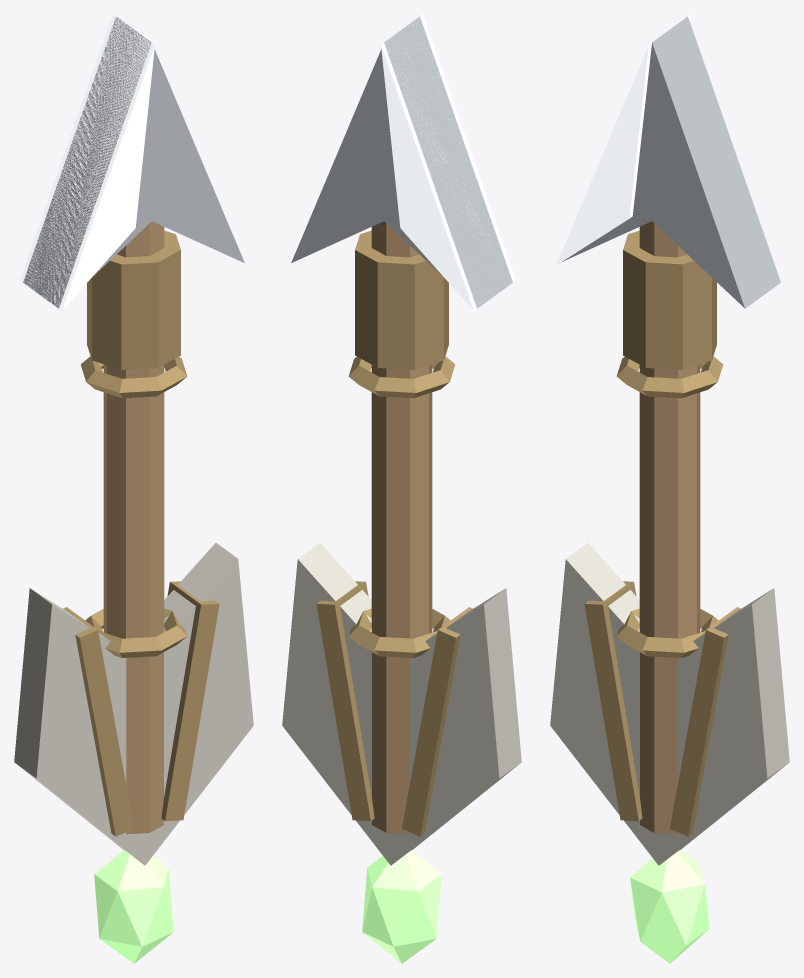
Rendered from hunter_bow_shot.glb.
The picture shows the model from 3 angles, left to right: view 1: azimuth 30°, elevation 25°; view 2: azimuth 150°, elevation 25°; view 3: azimuth 330°, elevation 25°; orthographic projection.
Visible parts, largest first — view 1: Shaft, ForgedArrowhead, HeadEdgeLeft, Fletching_-1, Fletching_1, HeadCollar, HunterNock, FletchingRib_1, FletchingRib_-1, Binding_1, Binding_0; view 2: Shaft, ForgedArrowhead, Fletching_-1, Fletching_1, HeadCollar, HeadEdgeLeft, HunterNock, FletchingRib_1, FletchingRib_-1, Binding_1, Binding_0; view 3: Shaft, ForgedArrowhead, Fletching_1, Fletching_-1, HeadCollar, HeadEdgeLeft, HunterNock, FletchingRib_-1, FletchingRib_1, Binding_1, Binding_0.
Boxes of the visible parts, left/top/right/bottom form: Shaft: left=103, top=221, right=164, bottom=834; ForgedArrowhead: left=23, top=17, right=244, bottom=308; HeadEdgeLeft: left=20, top=14, right=154, bottom=310; Fletching_-1: left=14, top=588, right=145, bottom=865; Fletching_1: left=145, top=543, right=253, bottom=864; HeadCollar: left=87, top=230, right=180, bottom=369; HunterNock: left=94, top=850, right=173, bottom=963; FletchingRib_1: left=161, top=581, right=219, bottom=821; FletchingRib_-1: left=63, top=607, right=133, bottom=836; Binding_1: left=80, top=356, right=187, bottom=398; Binding_0: left=85, top=608, right=187, bottom=658; Shaft: left=371, top=221, right=432, bottom=834; ForgedArrowhead: left=291, top=16, right=512, bottom=308; Fletching_-1: left=390, top=588, right=521, bottom=865; Fletching_1: left=282, top=543, right=390, bottom=864; HeadCollar: left=355, top=230, right=448, bottom=369; HeadEdgeLeft: left=381, top=14, right=515, bottom=310; HunterNock: left=362, top=850, right=441, bottom=963; FletchingRib_1: left=316, top=581, right=374, bottom=821; FletchingRib_-1: left=402, top=607, right=472, bottom=836; Binding_1: left=348, top=356, right=455, bottom=398; Binding_0: left=348, top=608, right=450, bottom=658; Shaft: left=639, top=221, right=700, bottom=834; ForgedArrowhead: left=562, top=16, right=780, bottom=308; Fletching_1: left=658, top=588, right=789, bottom=865; Fletching_-1: left=550, top=543, right=658, bottom=864; HeadCollar: left=623, top=230, right=716, bottom=369; HeadEdgeLeft: left=556, top=14, right=690, bottom=265; HunterNock: left=630, top=850, right=709, bottom=963; FletchingRib_-1: left=584, top=581, right=642, bottom=821; FletchingRib_1: left=670, top=607, right=740, bottom=836; Binding_1: left=616, top=356, right=723, bottom=398; Binding_0: left=616, top=608, right=718, bottom=658.
Size of the model in its own units: 0.28 by 1.15 by 0.1234.
